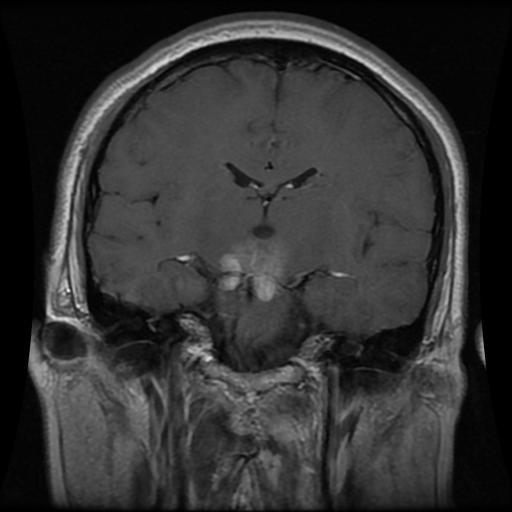Pituirity_tumour: (217, 237, 284, 298)
